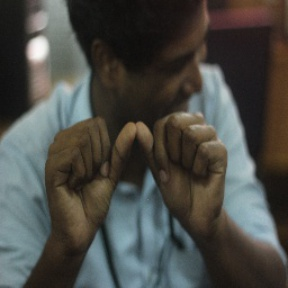A: (70, 110, 205, 215)
